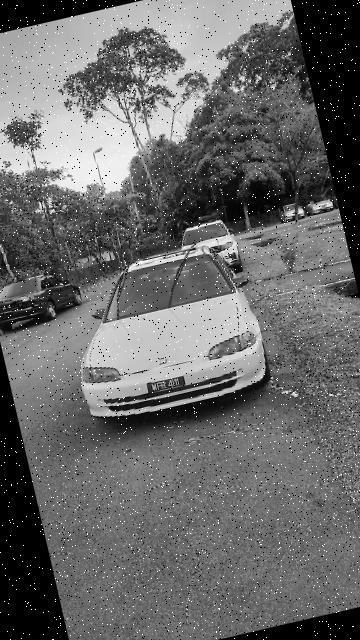License_Plate: (145, 373, 190, 397)
car: (54, 230, 296, 434)
